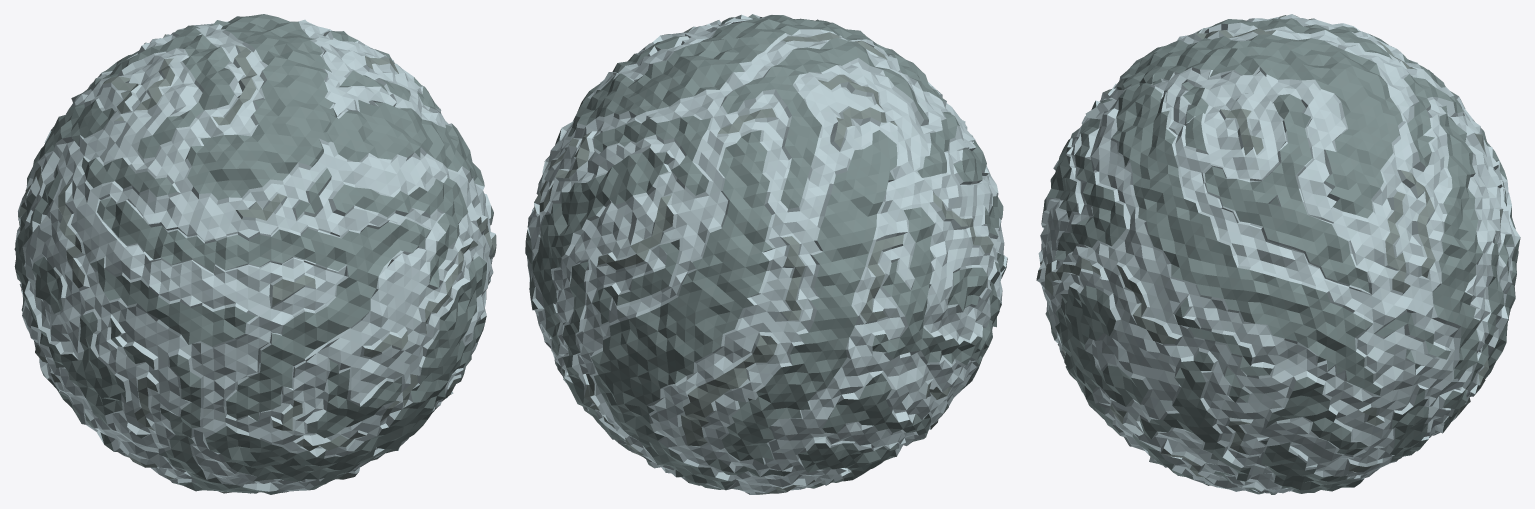
File: mercury0.fbx
3 views of the same model, side by side, from view 1: azimuth 30°, elevation 25°; view 2: azimuth 150°, elevation 25°; view 3: azimuth 270°, elevation 25° (orthographic).
Visible parts, largest first — view 1: Mercury V3; view 2: Mercury V3; view 3: Mercury V3.
Part boxes in pixels (x1,y1,x2,y2): Mercury V3: [14, 14, 496, 494]; Mercury V3: [525, 14, 1007, 494]; Mercury V3: [1036, 14, 1520, 494].
Size of the model in its own units: 213 by 213 by 214.
